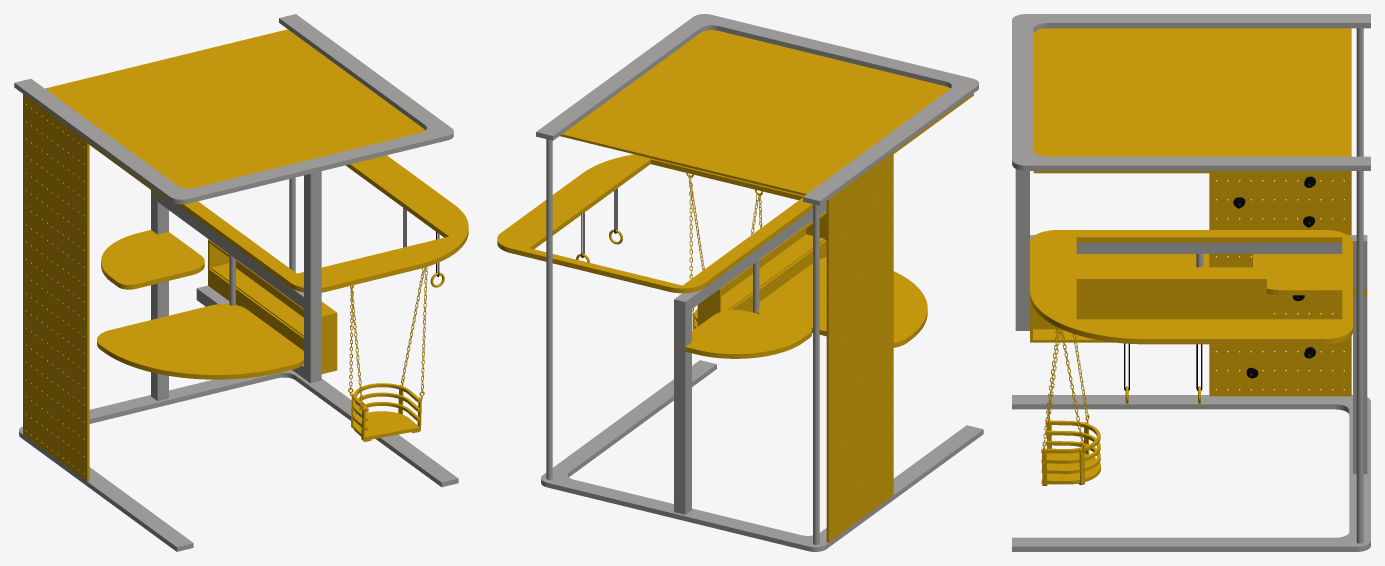
The model's file is luxury.glb.
3 renders of one model, left to right at view 1: azimuth 30°, elevation 25°; view 2: azimuth 150°, elevation 25°; view 3: azimuth 270°, elevation 25°, orthographic. The views are drawn at different scales.
Size of the model in its own units: 0.3 by 0.297 by 0.25.
